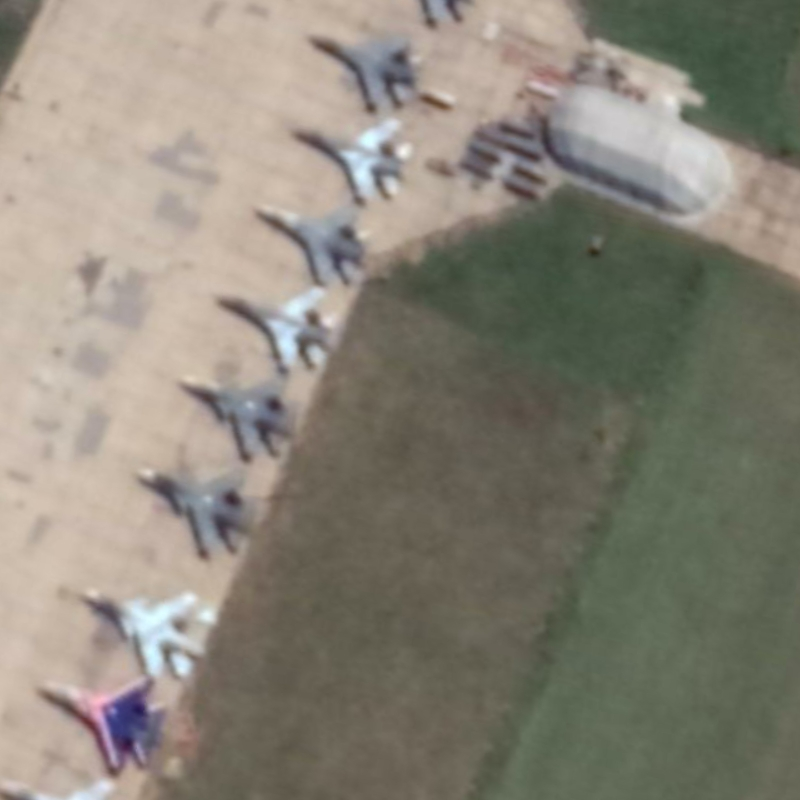A1: (30, 669, 177, 781), (196, 278, 345, 376), (243, 192, 379, 295), (299, 23, 431, 120), (278, 116, 420, 206)
A19: (70, 578, 223, 688), (126, 457, 265, 561), (169, 364, 306, 463)
